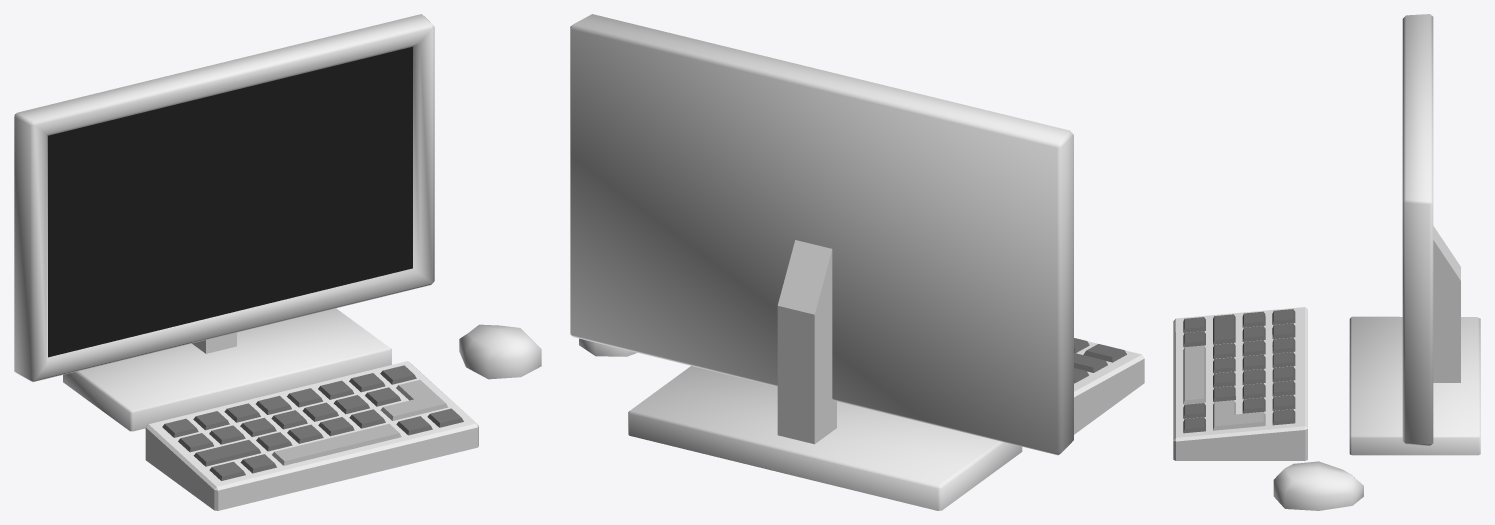
Rendered from electronics_017.fbx.
The picture shows the model from 3 angles, left to right: view 1: azimuth 30°, elevation 25°; view 2: azimuth 150°, elevation 25°; view 3: azimuth 270°, elevation 25°; orthographic projection. The views are drawn at different scales.
Parts seen in each view (by area): view 1: electronics_017; view 2: electronics_017; view 3: electronics_017.
Boxes of the visible parts, box(x1,y1,x2,y2) form: electronics_017: box(14, 14, 541, 510); electronics_017: box(570, 14, 1144, 510); electronics_017: box(1173, 14, 1480, 510).
Bounding box in the file's own units: 116 × 71.97 × 76.6.
